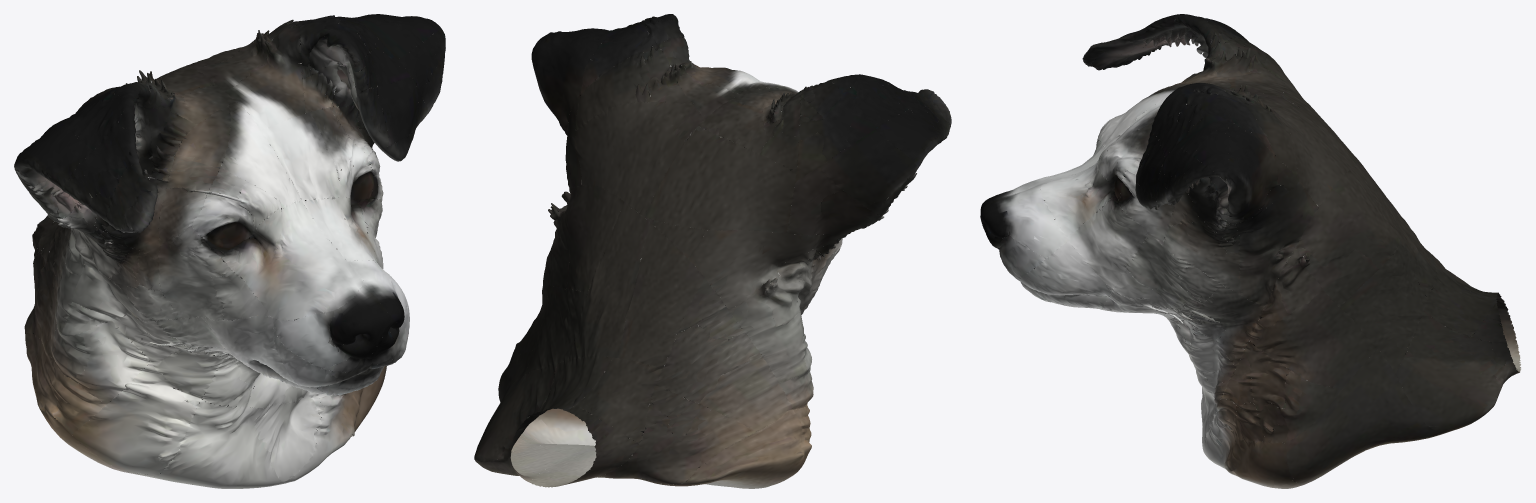
Rendered from cane_hq.glb.
The picture shows the model from 3 angles, left to right: view 1: azimuth 30°, elevation 25°; view 2: azimuth 150°, elevation 25°; view 3: azimuth 270°, elevation 25°; orthographic projection. The views are drawn at different scales.
Visible parts, largest first — view 1: LOW.001; view 2: LOW.001; view 3: LOW.001.
Part boxes in pixels (x1,y1,x2,y2): LOW.001: (14,14,445,488); LOW.001: (474,14,951,488); LOW.001: (980,14,1520,488).
Size of the model in its own units: 1.29 by 1.36 by 1.71.
Materials: 1 (1 with a texture image).
